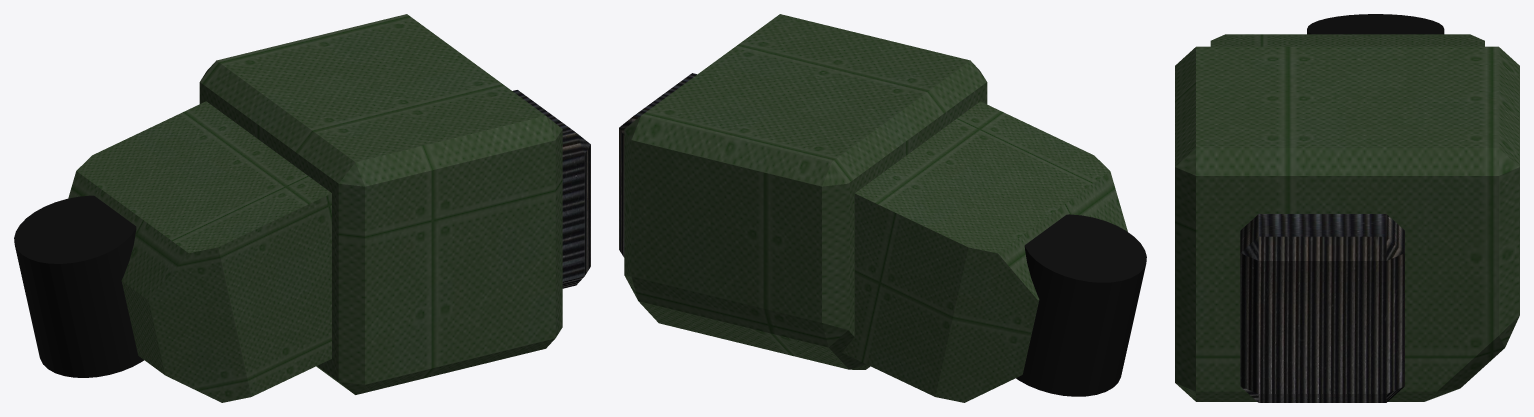
File: brazo_sup_der.obj
3 views of the same model, side by side, from view 1: azimuth 30°, elevation 25°; view 2: azimuth 150°, elevation 25°; view 3: azimuth 270°, elevation 25° (orthographic). The views are drawn at different scales.
Parts seen in each view (by area): view 1: brazo_sup_der; view 2: brazo_sup_der; view 3: brazo_sup_der.
Part boxes in pixels (x1,y1,x2,y2): brazo_sup_der: [14, 14, 590, 402]; brazo_sup_der: [619, 14, 1146, 402]; brazo_sup_der: [1175, 14, 1519, 402].
Size of the model in its own units: 3.75 by 1.62 by 2.
Materials: 3 (2 with a texture image).
